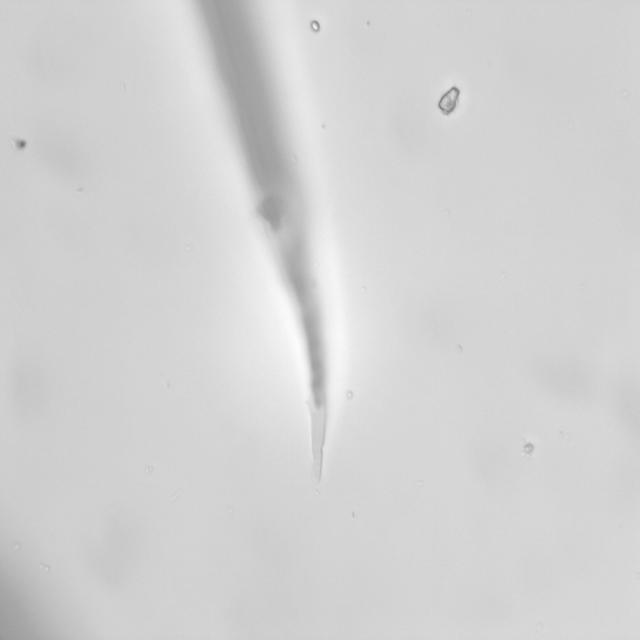Meloidogyne: (294, 390, 338, 498)
